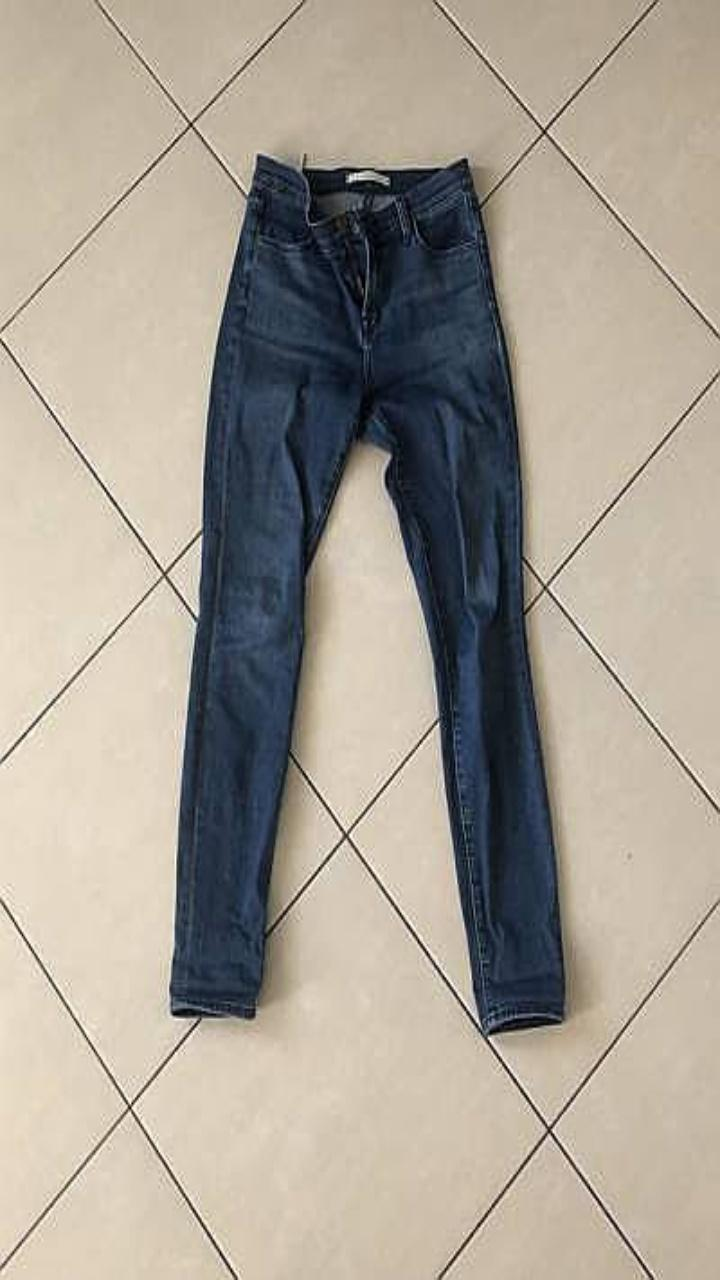Jeans: (170, 153, 564, 1033)
